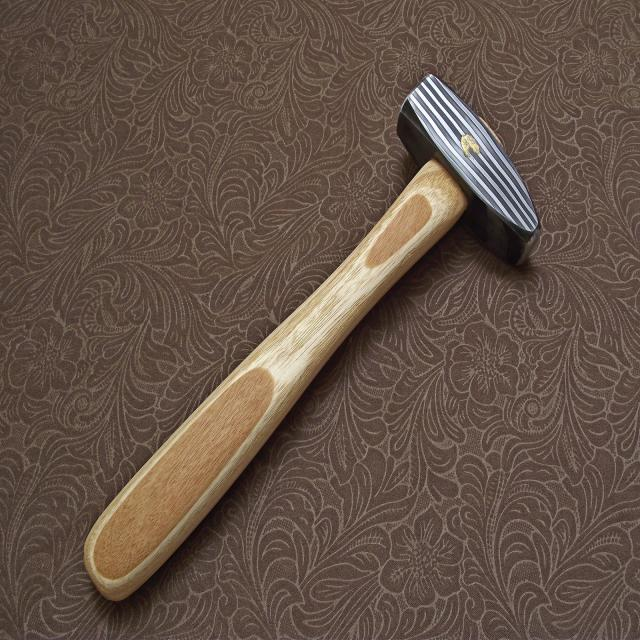hammer: (81, 68, 547, 604)
